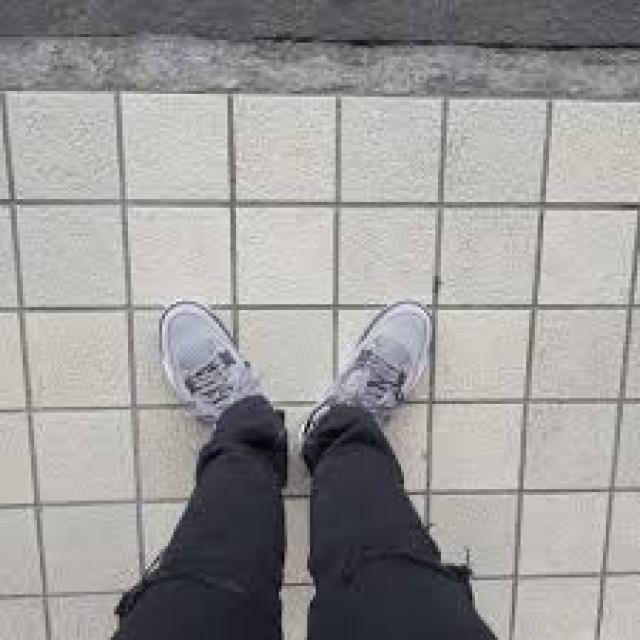shoe: (295, 300, 444, 468), (148, 302, 289, 458)
